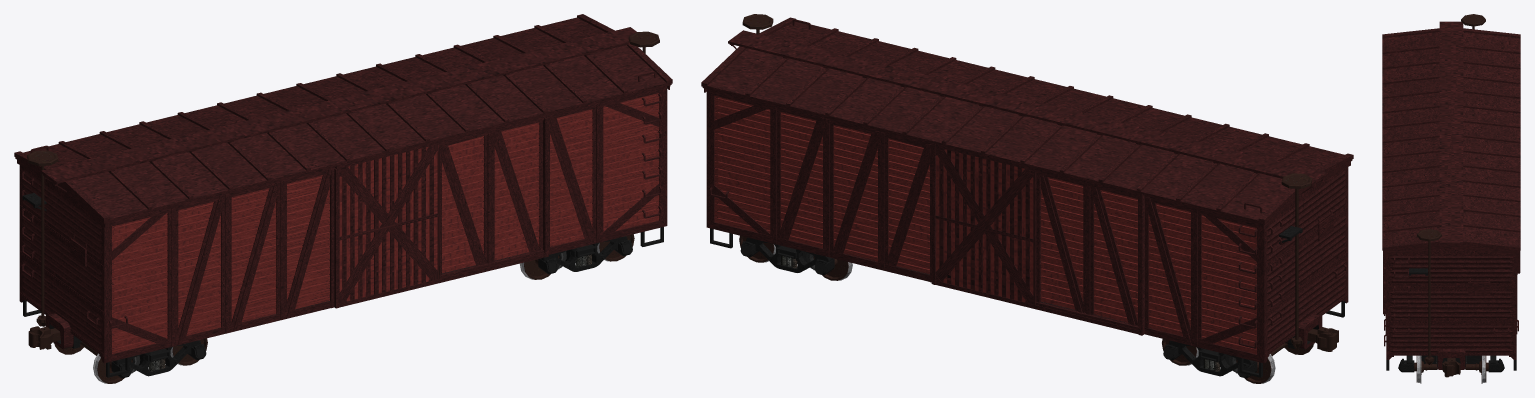
The model's file is boxcar_x26.obj.
The picture shows the model from 3 angles, left to right: view 1: azimuth 30°, elevation 25°; view 2: azimuth 150°, elevation 25°; view 3: azimuth 270°, elevation 25°; orthographic projection. The views are drawn at different scales.
Visible parts, largest first — view 1: SHELL.003_Cube.001, SHELL.002_Cube.002, FRAME_Cube.026, BOGEY_FRONT_Cube.037, BOGEY_REAR_Cube.027, BOGEY_FRONT_WHEEL_2_Cylinder.016; view 2: SHELL.003_Cube.001, SHELL_Cube.006, FRAME_Cube.026, BOGEY_REAR_Cube.027, BOGEY_FRONT_Cube.037, BOGEY_FRONT_WHEEL_2_Cylinder.016; view 3: SHELL.003_Cube.001, FRAME_Cube.026, BOGEY_REAR_WHEEL_1_Cylinder.014, BOGEY_REAR_BEARINGS_Cube.020, BOGEY_REAR_FRAME_Cube.019, FRONT_COUPLER_Cube.000.
Part boxes in pixels (x1,y1,x2,y2): SHELL.003_Cube.001: (14, 14, 672, 377); SHELL.002_Cube.002: (337, 144, 439, 303); FRAME_Cube.026: (20, 253, 525, 356); BOGEY_FRONT_Cube.037: (113, 340, 200, 376); BOGEY_REAR_Cube.027: (540, 236, 627, 271); BOGEY_FRONT_WHEEL_2_Cylinder.016: (53, 342, 132, 383); SHELL.003_Cube.001: (701, 14, 1353, 377); SHELL_Cube.006: (935, 147, 1036, 304); FRAME_Cube.026: (844, 253, 1347, 356); BOGEY_REAR_Cube.027: (746, 237, 832, 272); BOGEY_FRONT_Cube.037: (1168, 340, 1255, 376); BOGEY_FRONT_WHEEL_2_Cylinder.016: (1236, 343, 1314, 383); SHELL.003_Cube.001: (1382, 14, 1520, 370); FRAME_Cube.026: (1387, 349, 1515, 369); BOGEY_REAR_WHEEL_1_Cylinder.014: (1414, 355, 1488, 383); BOGEY_REAR_BEARINGS_Cube.020: (1399, 359, 1503, 372); BOGEY_REAR_FRAME_Cube.019: (1421, 355, 1481, 363); FRONT_COUPLER_Cube.000: (1442, 358, 1460, 377).
Bounding box in the file's own units: 12.81 × 4.14 × 3.21.
